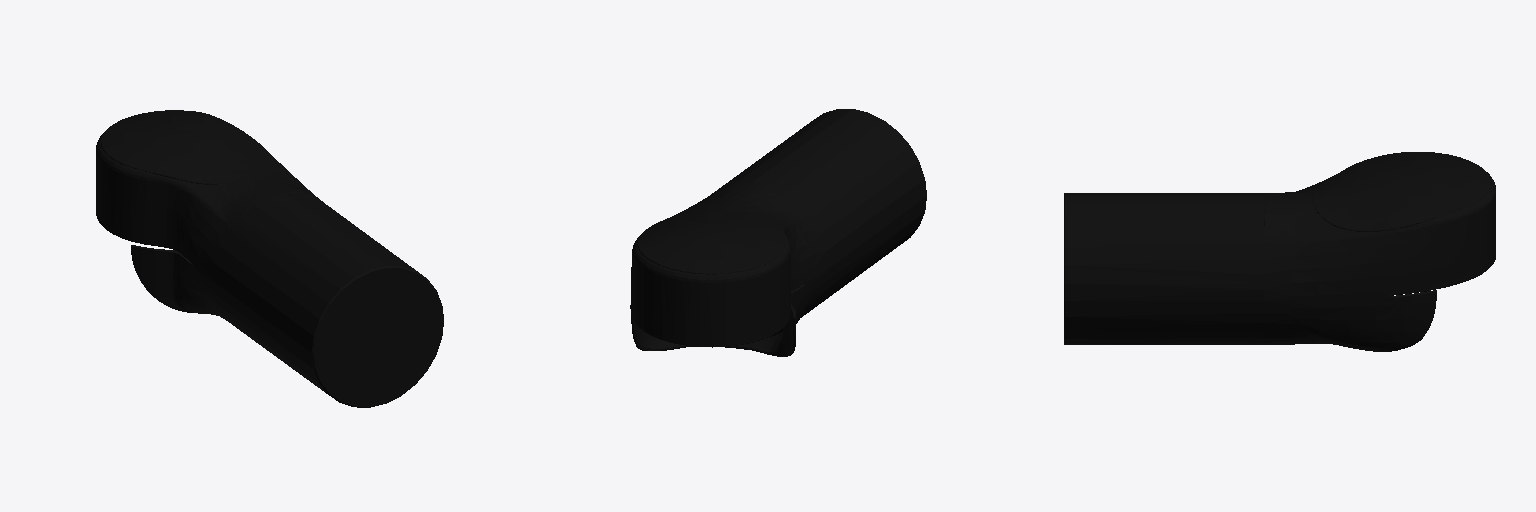
The model's file is arm_3.obj.
3 views of the same model, side by side, from view 1: azimuth 30°, elevation 25°; view 2: azimuth 150°, elevation 25°; view 3: azimuth 270°, elevation 25° (orthographic).
Visible parts, largest first — view 1: arm_3; view 2: arm_3; view 3: arm_3.
Part boxes in pixels (x1,y1,x2,y2): arm_3: (96, 110, 443, 407); arm_3: (630, 109, 926, 356); arm_3: (1064, 152, 1495, 351).
Size of the model in its own units: 0.122 by 0.1084 by 0.283.